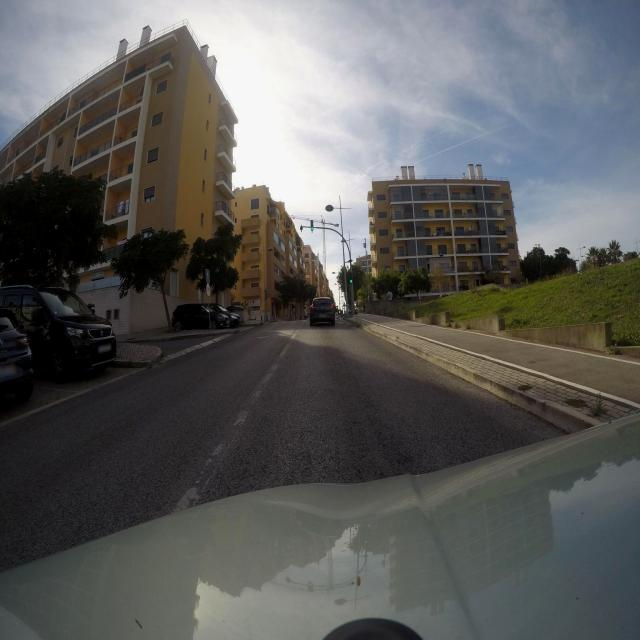car: (0, 283, 118, 383), (0, 302, 35, 421), (169, 302, 230, 331), (205, 303, 241, 327), (309, 296, 336, 326)
